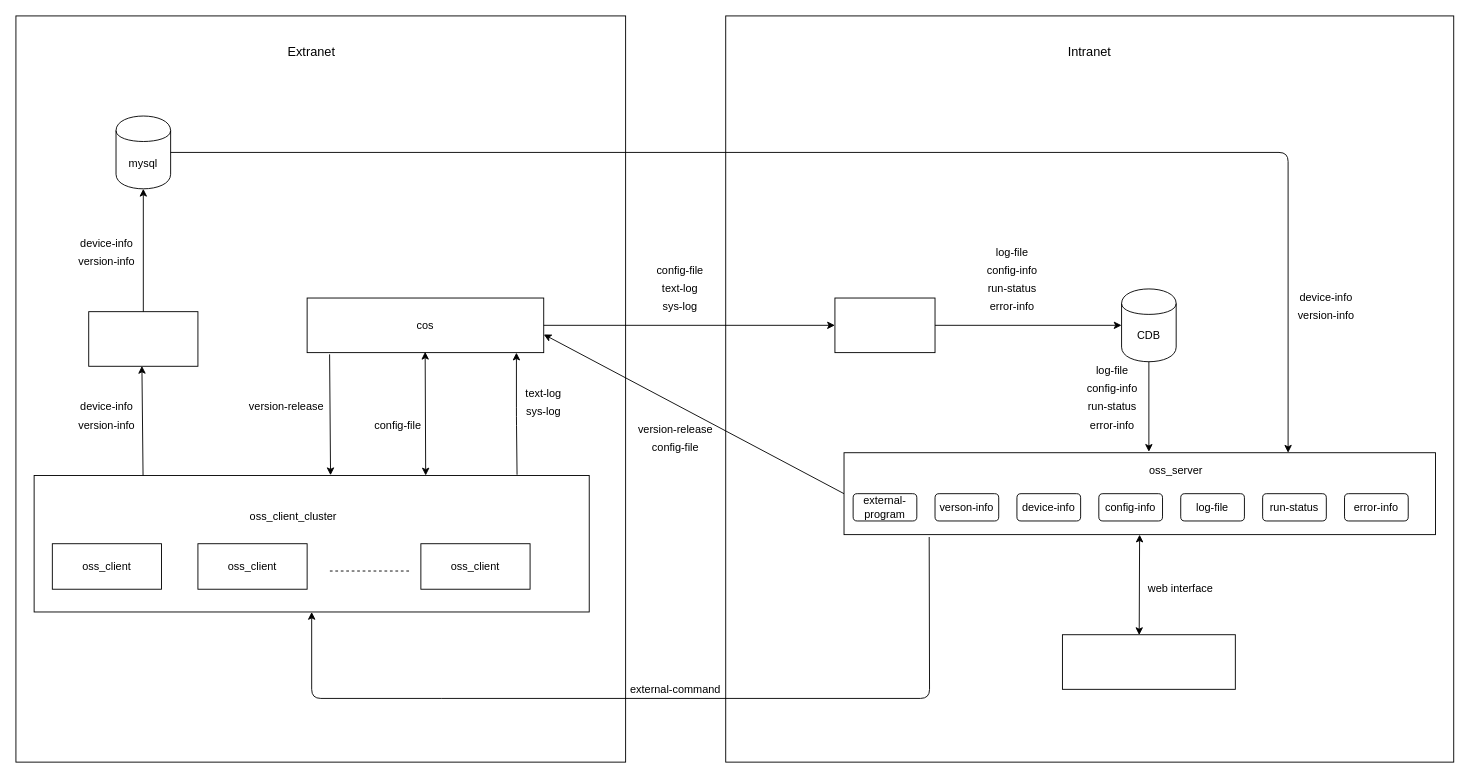
The diagram is 1470 pixels wide and 778 high, and some of its shapes have lost their labels. Here are the shapes that lost their labels. From the top down, the centre of each, then its label:
At [143,338]: "cloud oss server".
At [884,325]: "data_deal_server".
At [1148,661]: "web_client".
